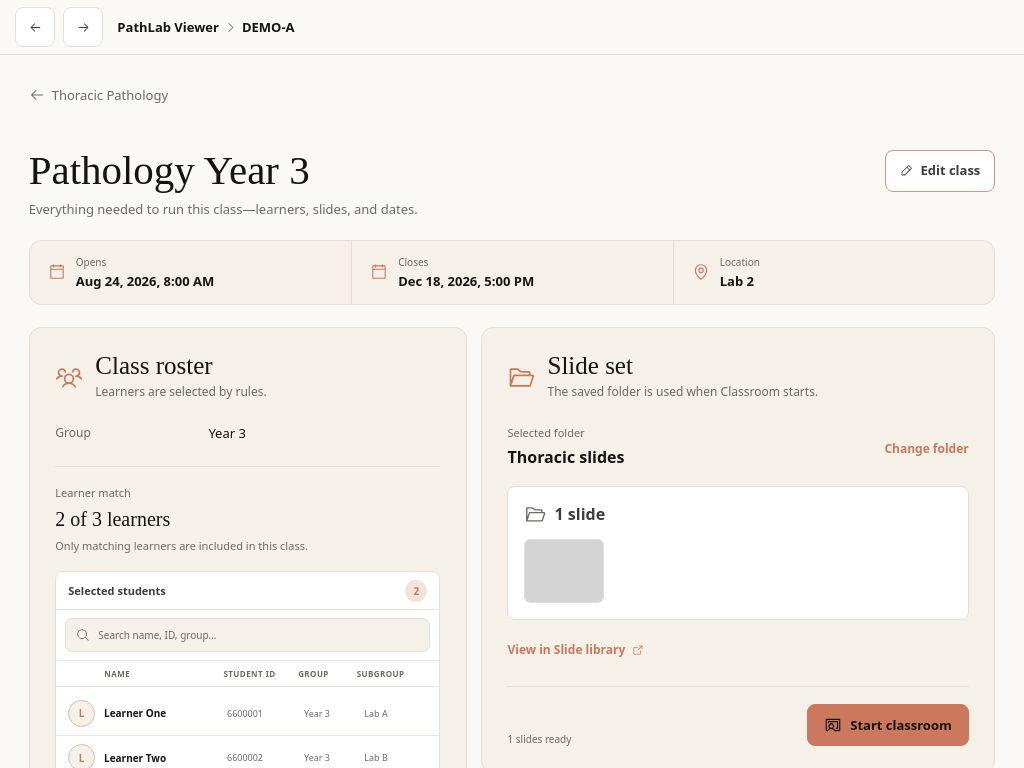
Test: opens Classroom with the saved class folder and no folder selection step
Expected: the heading "Pathology Year 3" is shown, [29,147,310,193]
Expected: the text "Thoracic slides" is shown, [508,446,624,468]
Type "6600002" into the field named "Search selected students" at {"x": 248, "y": 635}, box [65,618,430,652]
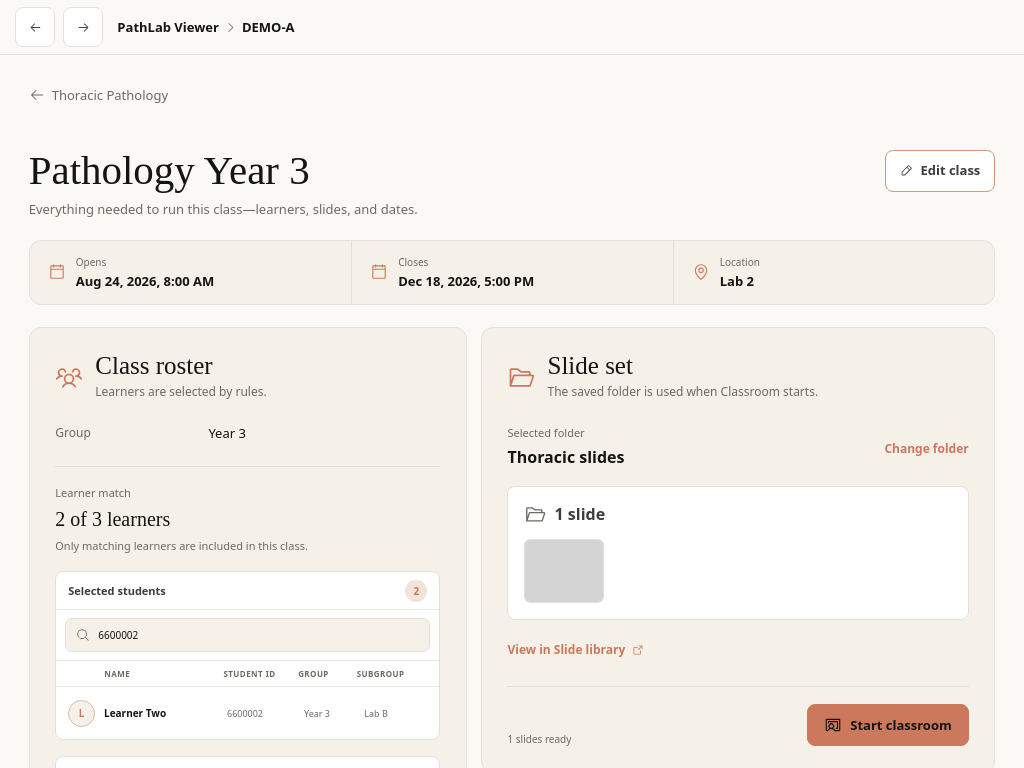
Expected: the text "Learner Two" is shown, [104,706,166,720]
Expected: the text "Learner One" is gone
Click the button "Change folder" at {"x": 927, "y": 449}, box [884,430,969,468]
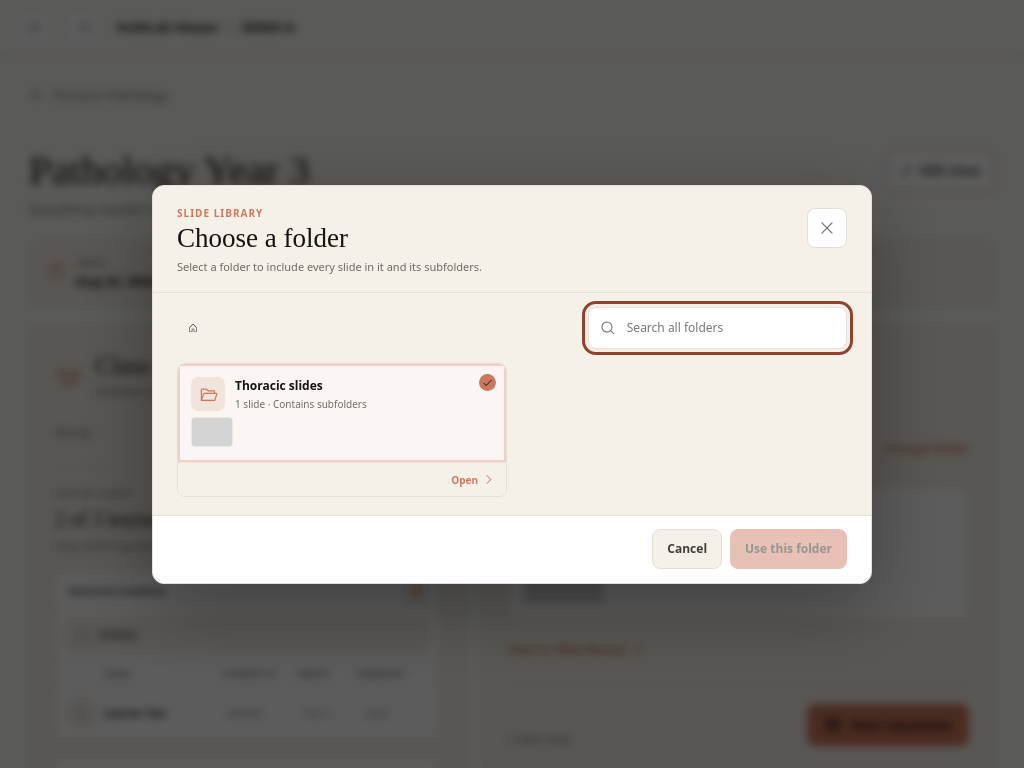
Expected: the dialog "Choose a folder" is shown, [152,184,872,584]
Expected: the field named "Search folders" is shown, [588,306,847,348]
Click the button with aria-label "Open Thoracic slides" at {"x": 465, "y": 479}, box [178,462,506,496]
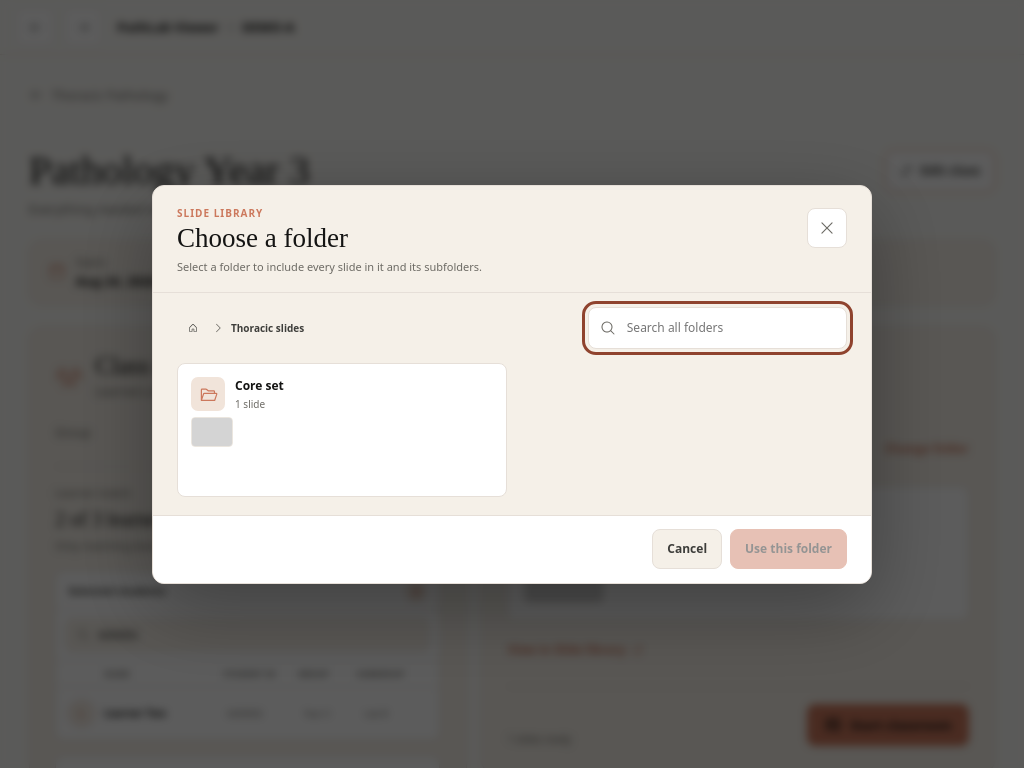
Expected: the option "Core set 1 slide" is shown, [178,364,506,462]
Expected: the navigation bar named "Current folder" reads "Thoracic slides", [224,312,311,344]
